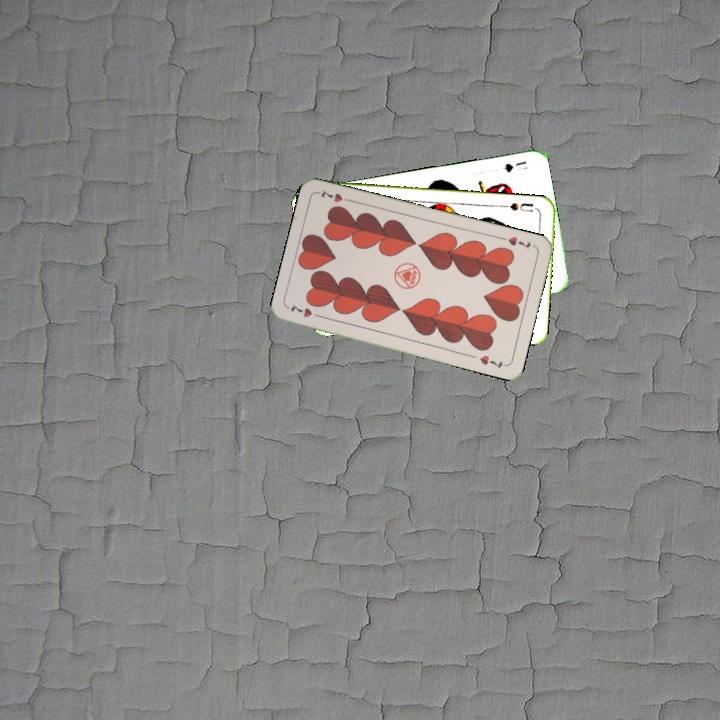GU: (499, 157, 529, 175)
H7: (285, 300, 325, 321), (504, 232, 533, 251)
SU: (499, 199, 540, 214)
